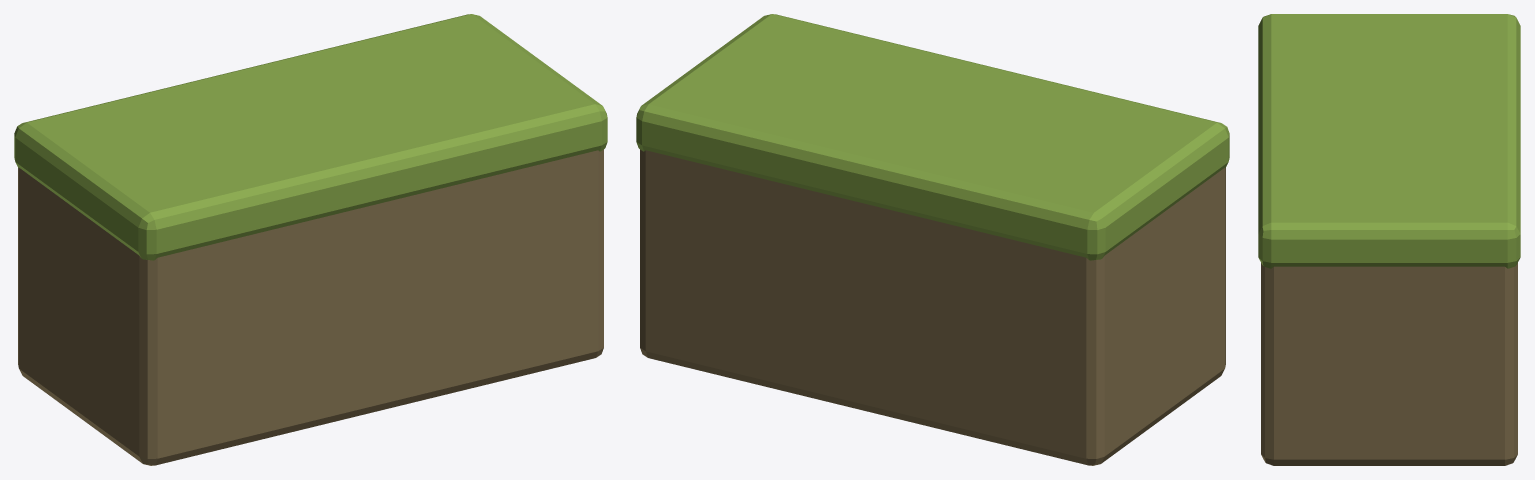
Rendered from SM_Platform_1m_02_A.fbx.
3 views of the same model, side by side, from view 1: azimuth 30°, elevation 25°; view 2: azimuth 150°, elevation 25°; view 3: azimuth 270°, elevation 25° (orthographic). The views are drawn at different scales.
Visible parts, largest first — view 1: polySurface77; view 2: polySurface77; view 3: polySurface77.
Boxes of the visible parts, left/top/right/bottom form: polySurface77: left=14, top=14, right=607, bottom=465; polySurface77: left=636, top=14, right=1229, bottom=465; polySurface77: left=1258, top=14, right=1520, bottom=465.
Bounding box in the file's own units: 202 × 105 × 102.
